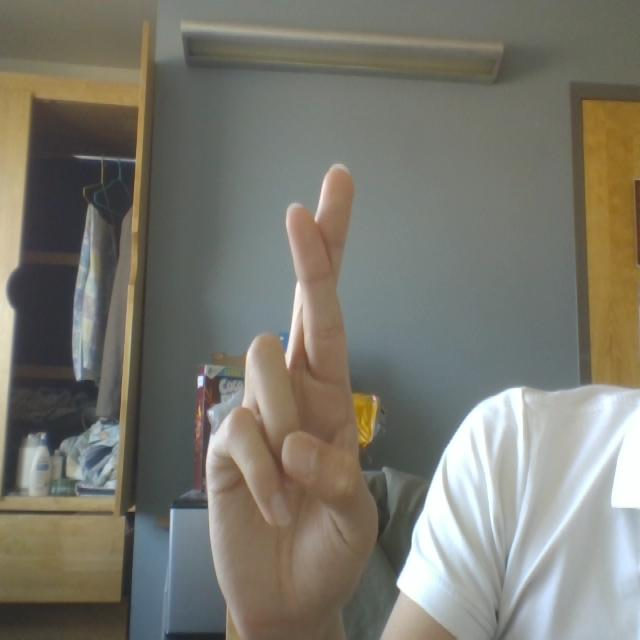R: (194, 125, 455, 640)
